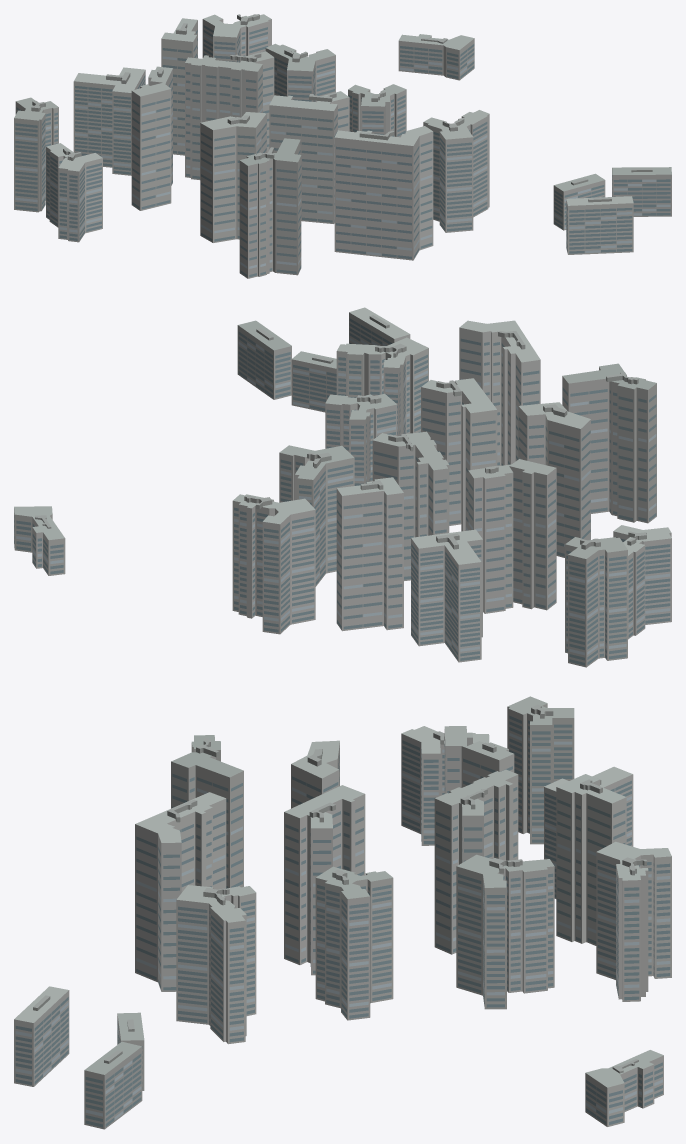
Rendered from apt-a10024347.glb.
3 views of the same model, one above another, from view 1: azimuth 30°, elevation 25°; view 2: azimuth 150°, elevation 25°; view 3: azimuth 270°, elevation 25° (orthographic). The views are drawn at different scales.
Visible parts, largest first — view 1: apt-a10024347; view 2: apt-a10024347; view 3: apt-a10024347.
Part boxes in pixels (x1,y1,x2,y2): apt-a10024347: (14,14,671,278); apt-a10024347: (14,307,671,667); apt-a10024347: (14,696,671,1129).
Size of the model in its own units: 341 by 78 by 303.
